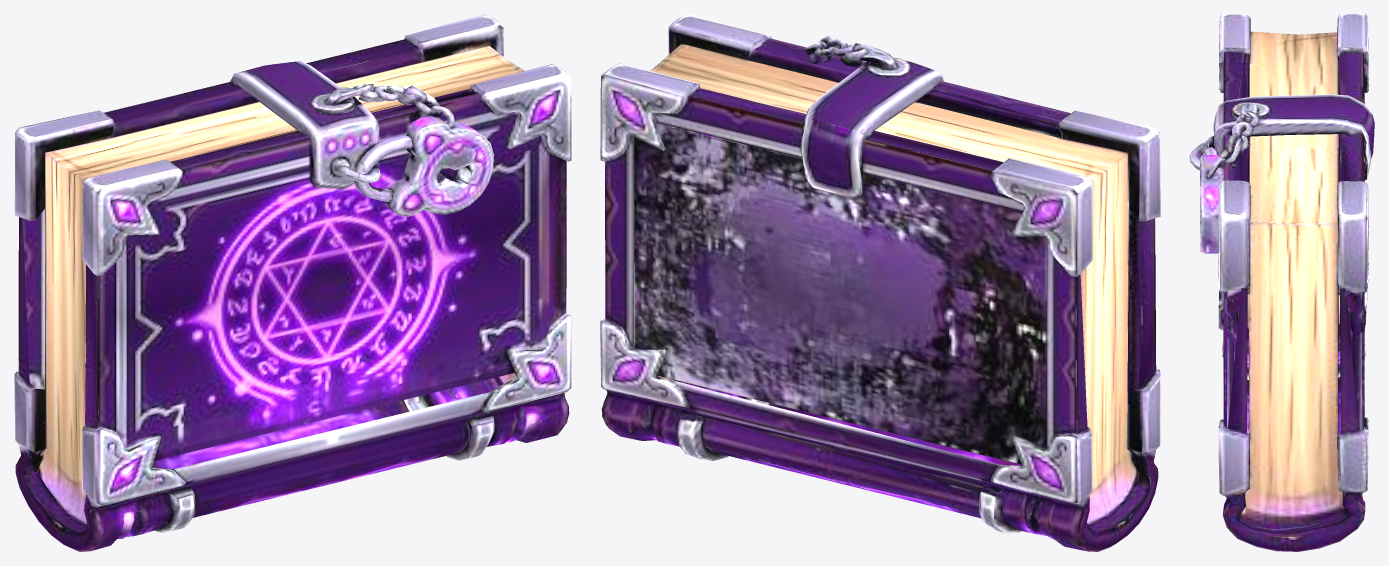
File: pickup_trap.glb
3 views of the same model, side by side, from view 1: azimuth 30°, elevation 25°; view 2: azimuth 150°, elevation 25°; view 3: azimuth 270°, elevation 25° (orthographic). The views are drawn at different scales.
Visible parts, largest first — view 1: pickup_trap; view 2: pickup_trap; view 3: pickup_trap.
Part boxes in pixels (x1,y1,x2,y2): pickup_trap: [14, 14, 571, 551]; pickup_trap: [600, 14, 1160, 551]; pickup_trap: [1189, 14, 1374, 551].
Size of the model in its own units: 1.11 by 0.9124 by 0.4237.
Materials: 1 (1 with a texture image).
